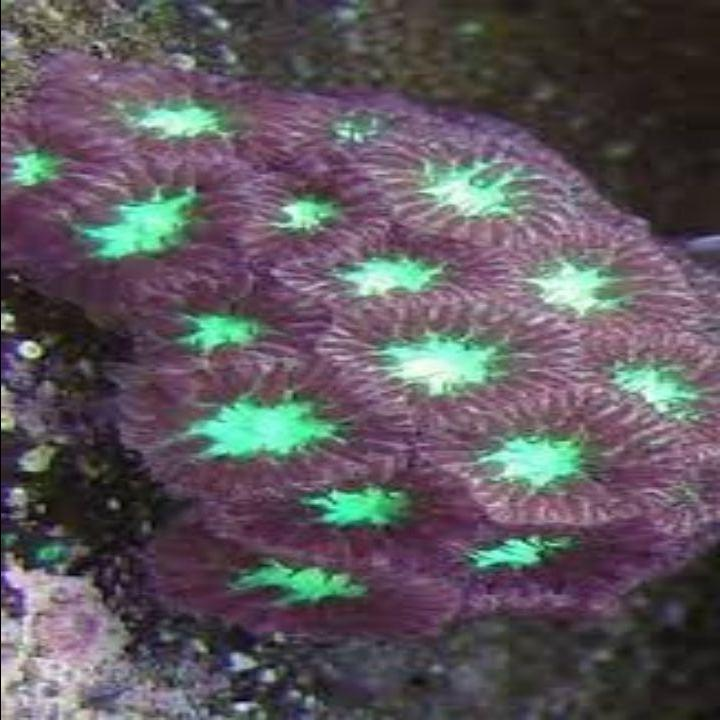Healthy Coral: (43, 55, 693, 678)
